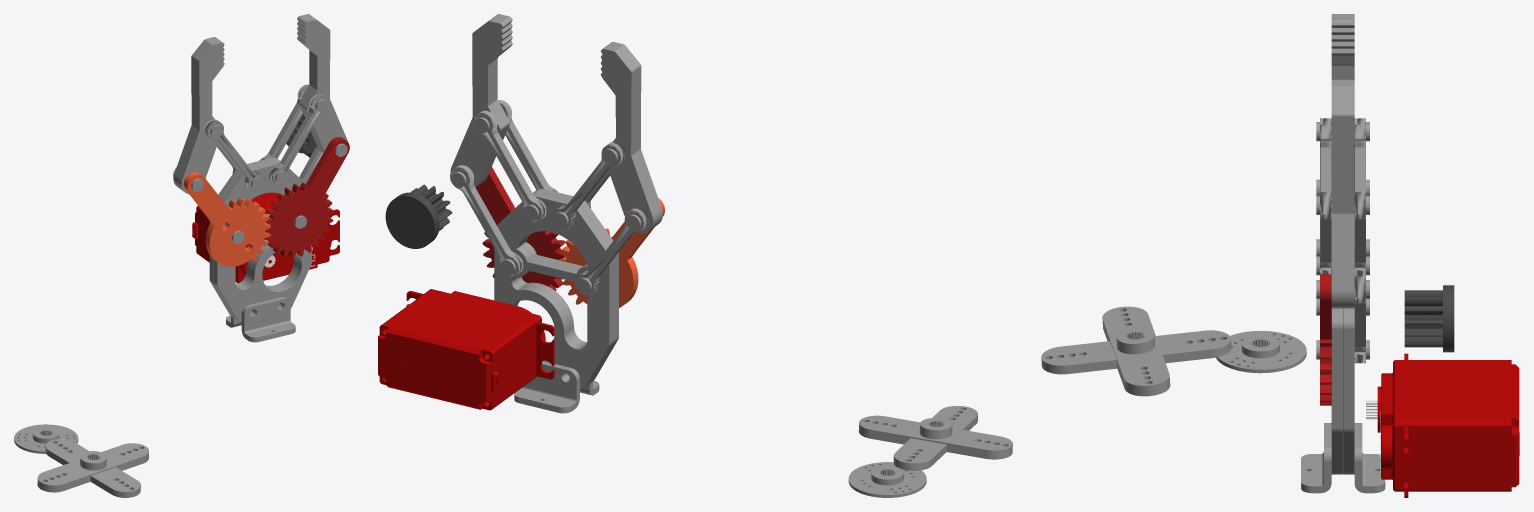
Rendered from Horizontal Movement.fbx.
3 views of the same model, side by side, from view 1: azimuth 30°, elevation 25°; view 2: azimuth 150°, elevation 25°; view 3: azimuth 270°, elevation 25° (orthographic). The views are drawn at different scales.
Parts seen in each view (by area): view 1: Body1 (×16); view 2: Body1 (×18); view 3: Body1 (×18).
Part boxes in pixels (box(x1,y1,x2,y2)): Body1 (×16): box(14, 14, 349, 497); Body1 (×18): box(378, 14, 1012, 497); Body1 (×18): box(1041, 14, 1519, 497).
Bounding box in the file's own units: 172 × 138 × 125.
